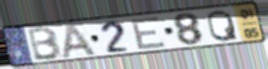2: (99, 18, 134, 56)
8: (172, 11, 206, 47)
A: (61, 22, 99, 60)
B: (27, 25, 64, 62)
E: (130, 15, 168, 51)
Q: (206, 8, 240, 43)
